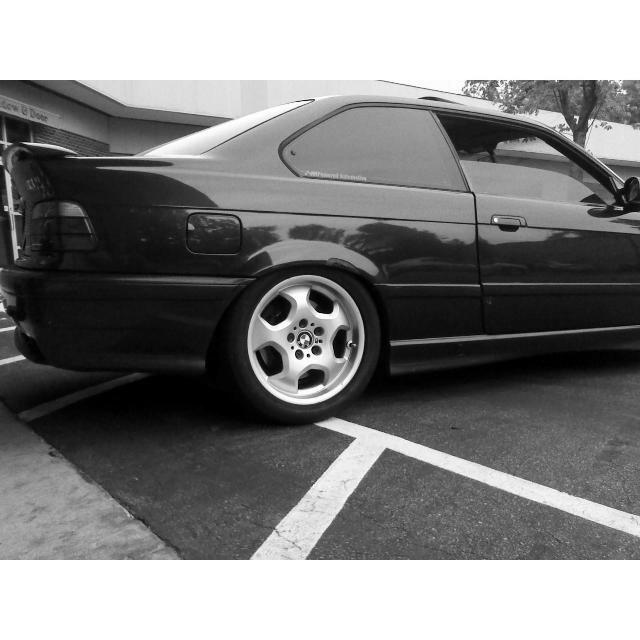quaterpanel-dent: (250, 187, 432, 284)
